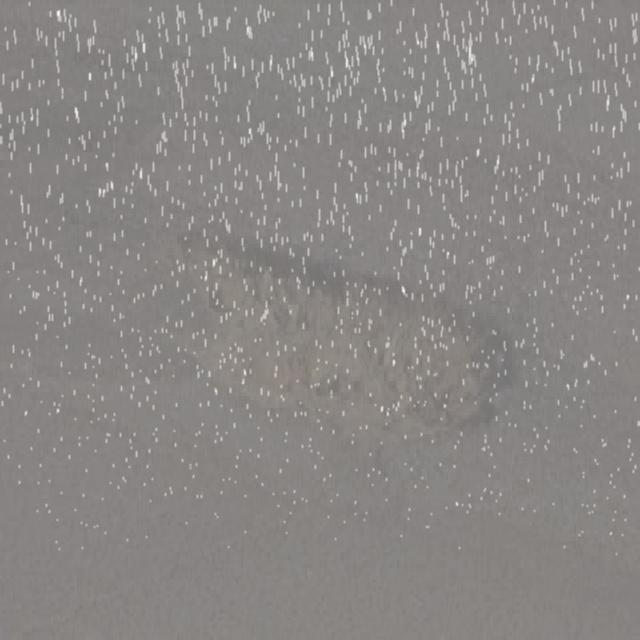Pothole: (146, 197, 518, 460)
